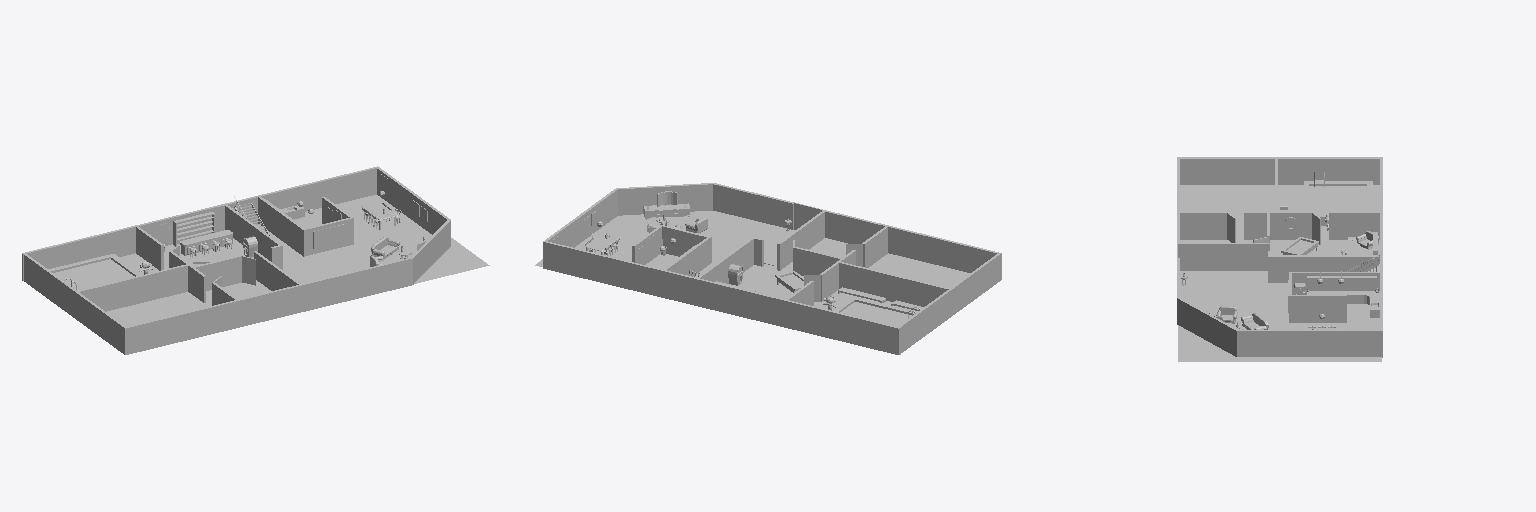
Rendered from Layout Test.obj.
The picture shows the model from 3 angles: view 1: azimuth 30°, elevation 25°; view 2: azimuth 150°, elevation 25°; view 3: azimuth 270°, elevation 25°; orthographic projection.
Parts seen in each view (by area): view 1: pPlane1, Walls Wall_4, Walls Wall_3, Wall_1 Walls, Walls Wall_2, Walls Wall_11, Walls Wall_5, Walls Wall_7, Walls Wall_14, pCube28 polySurface5, Walls Wall_6, Walls Wall_15 (+7 smaller); view 2: pPlane1, Wall_1 Walls, Walls Wall_3, Walls Wall_4, Walls Wall_2, Walls Wall_11, Walls Wall_5, Walls Wall_6, Walls Wall_7, Walls Wall_12, Walls Wall_15, Walls Wall_14 (+7 smaller); view 3: pPlane1, Walls Wall_2, Walls Wall_7, Walls Wall_12, Walls Wall_15, Walls Wall_6, Walls Wall_10, Walls Wall_18, pCube28 polySurface5, Walls Wall_9, Walls Wall_8, Walls Wall_14 (+4 smaller).
Part boxes in pixels (bbox=[...]): pPlane1: bbox=[107, 195, 489, 326]; Walls Wall_4: bbox=[125, 284, 303, 354]; Walls Wall_3: bbox=[201, 166, 377, 232]; Wall_1 Walls: bbox=[22, 210, 201, 280]; Walls Wall_2: bbox=[23, 253, 126, 354]; Walls Wall_11: bbox=[75, 264, 189, 311]; Walls Wall_5: bbox=[331, 257, 412, 304]; Walls Wall_7: bbox=[376, 167, 450, 234]; Walls Wall_14: bbox=[257, 196, 305, 256]; pCube28 polySurface5: bbox=[54, 259, 134, 290]; Walls Wall_6: bbox=[411, 219, 450, 284]; Walls Wall_15: bbox=[224, 203, 281, 260]; pPlane1: bbox=[535, 211, 969, 311]; Wall_1 Walls: bbox=[721, 284, 900, 354]; Walls Wall_3: bbox=[543, 241, 721, 311]; Walls Wall_4: bbox=[822, 210, 1000, 272]; Walls Wall_2: bbox=[898, 253, 1001, 352]; Walls Wall_11: bbox=[838, 261, 950, 306]; Walls Wall_5: bbox=[713, 183, 794, 229]; Walls Wall_6: bbox=[616, 183, 713, 215]; Walls Wall_7: bbox=[543, 188, 617, 247]; Walls Wall_12: bbox=[777, 210, 825, 270]; Walls Wall_15: bbox=[695, 238, 753, 305]; Walls Wall_14: bbox=[663, 237, 711, 276]; pPlane1: bbox=[1178, 185, 1381, 361]; Walls Wall_2: bbox=[1177, 157, 1379, 184]; Walls Wall_7: bbox=[1237, 330, 1382, 357]; Walls Wall_12: bbox=[1180, 243, 1269, 270]; Walls Wall_15: bbox=[1271, 255, 1379, 282]; Walls Wall_6: bbox=[1177, 298, 1237, 356]; Walls Wall_10: bbox=[1244, 212, 1312, 239]; Walls Wall_18: bbox=[1289, 295, 1346, 322]; pCube28 polySurface5: bbox=[1309, 186, 1366, 213]; Walls Wall_9: bbox=[1177, 212, 1226, 239]; Walls Wall_8: bbox=[1329, 212, 1379, 239]; Walls Wall_14: bbox=[1292, 272, 1379, 294].
Size of the model in its own units: 821 by 90.24 by 402.